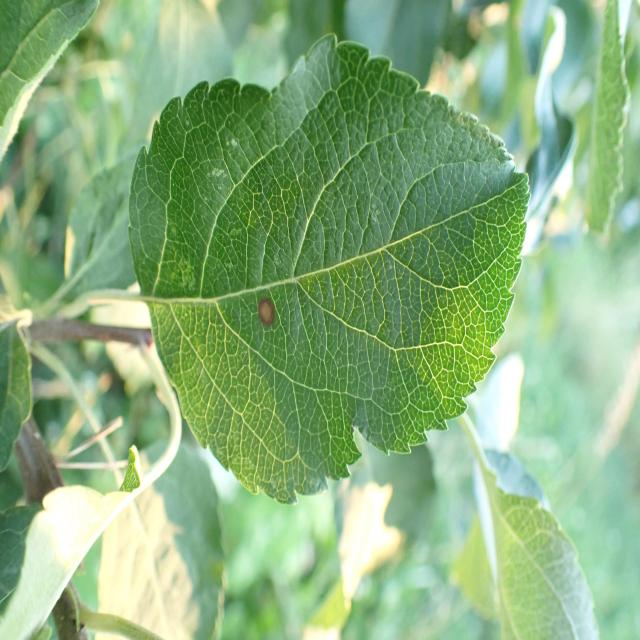Black Rot: (245, 278, 289, 343)
